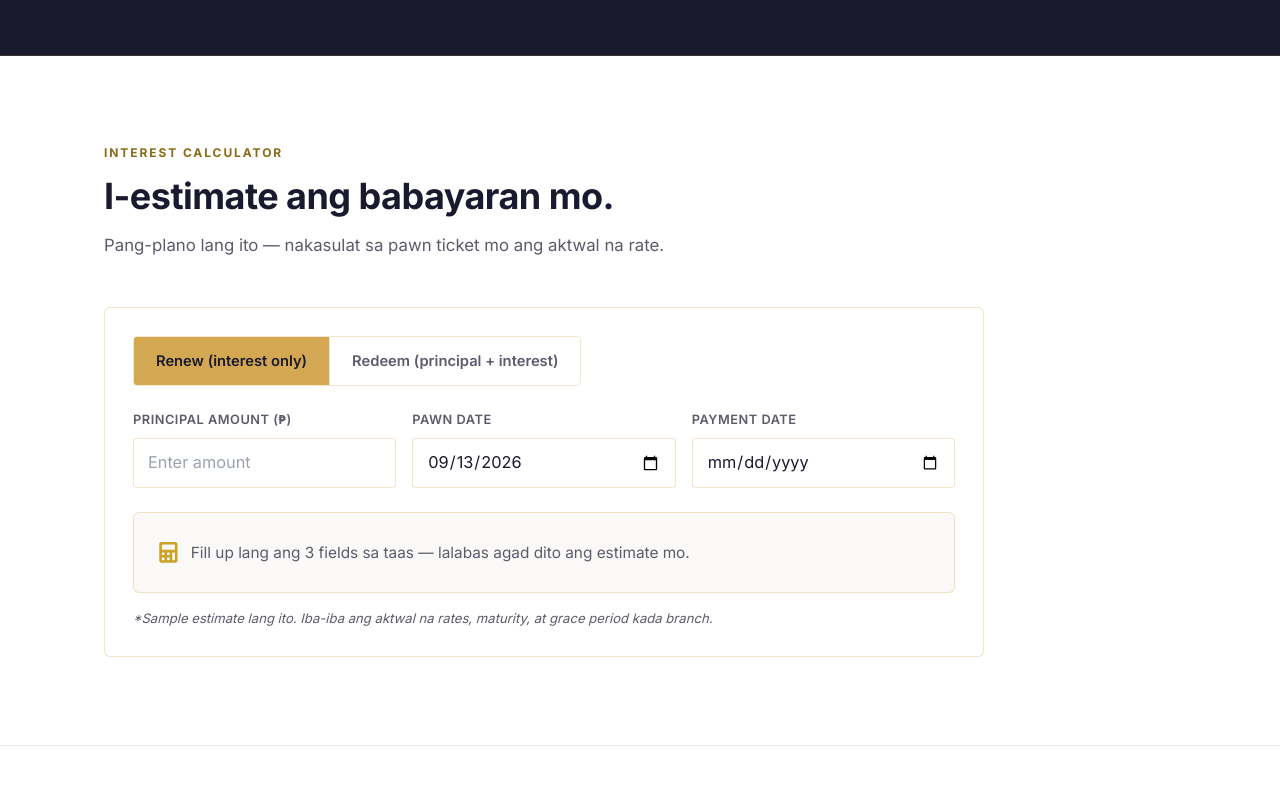
Test case: day 11 flips the tier: 1.5%, ₱75.00
(page scrolled)
In the number field labelled "Principal amount (₱)": (265, 463) [133,438,396,488], type "5000"
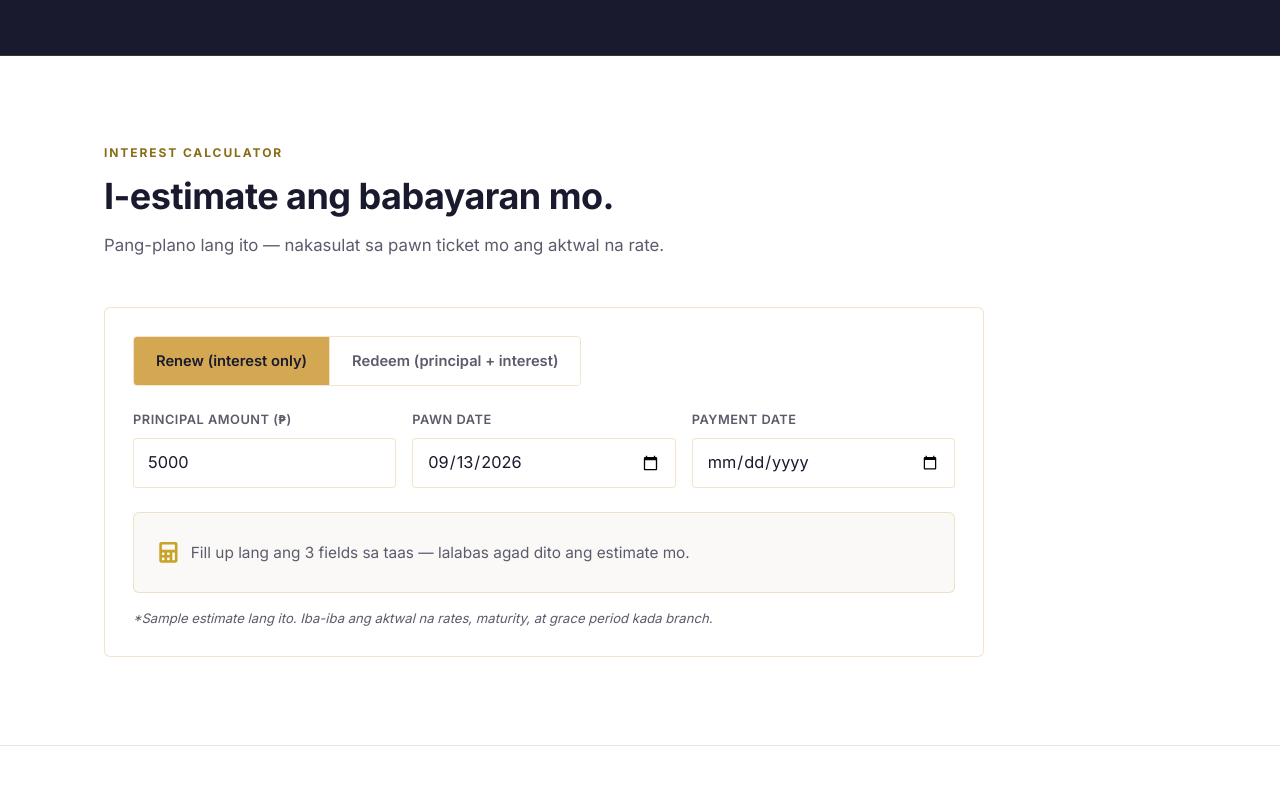
In the date field labelled "Pawn date": (544, 463) [412,438,676,488], type "2026-01-01"
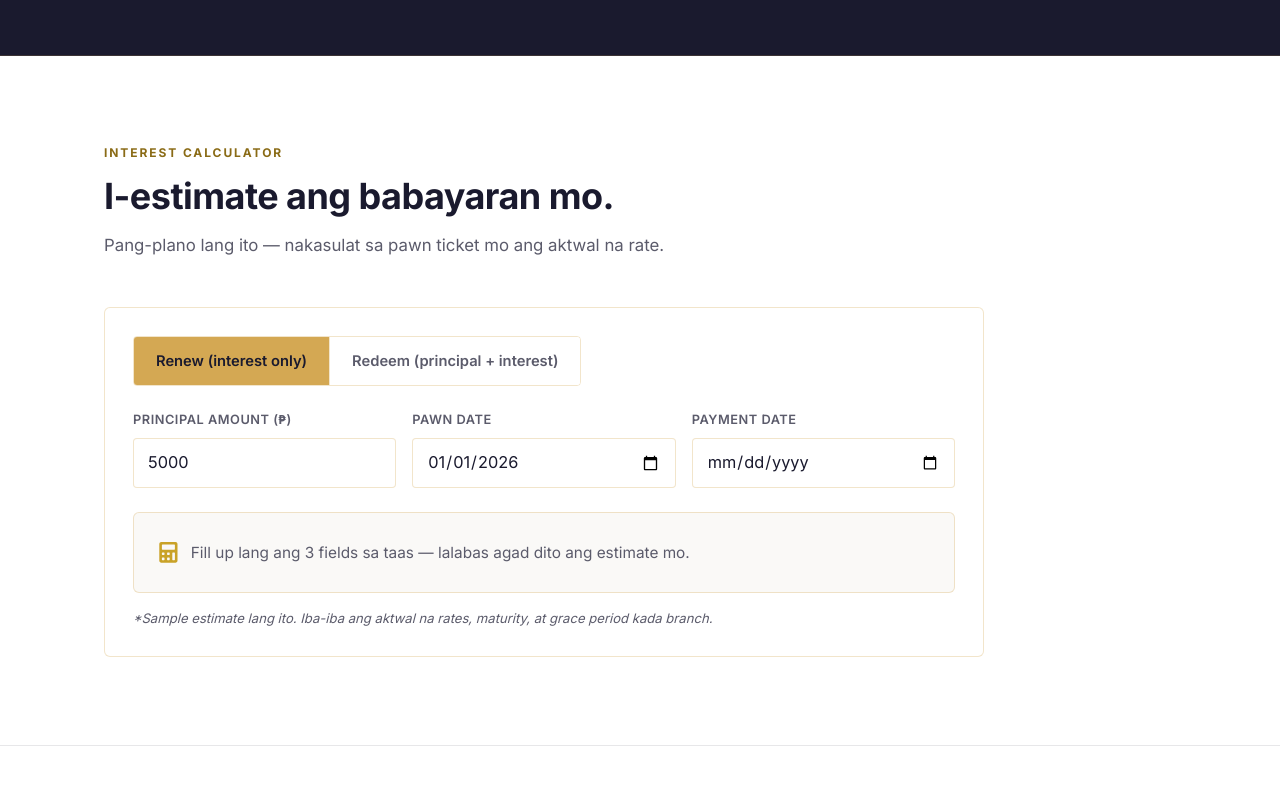
In the date field labelled "Payment date": (823, 463) [692,438,955,488], type "2026-01-12"
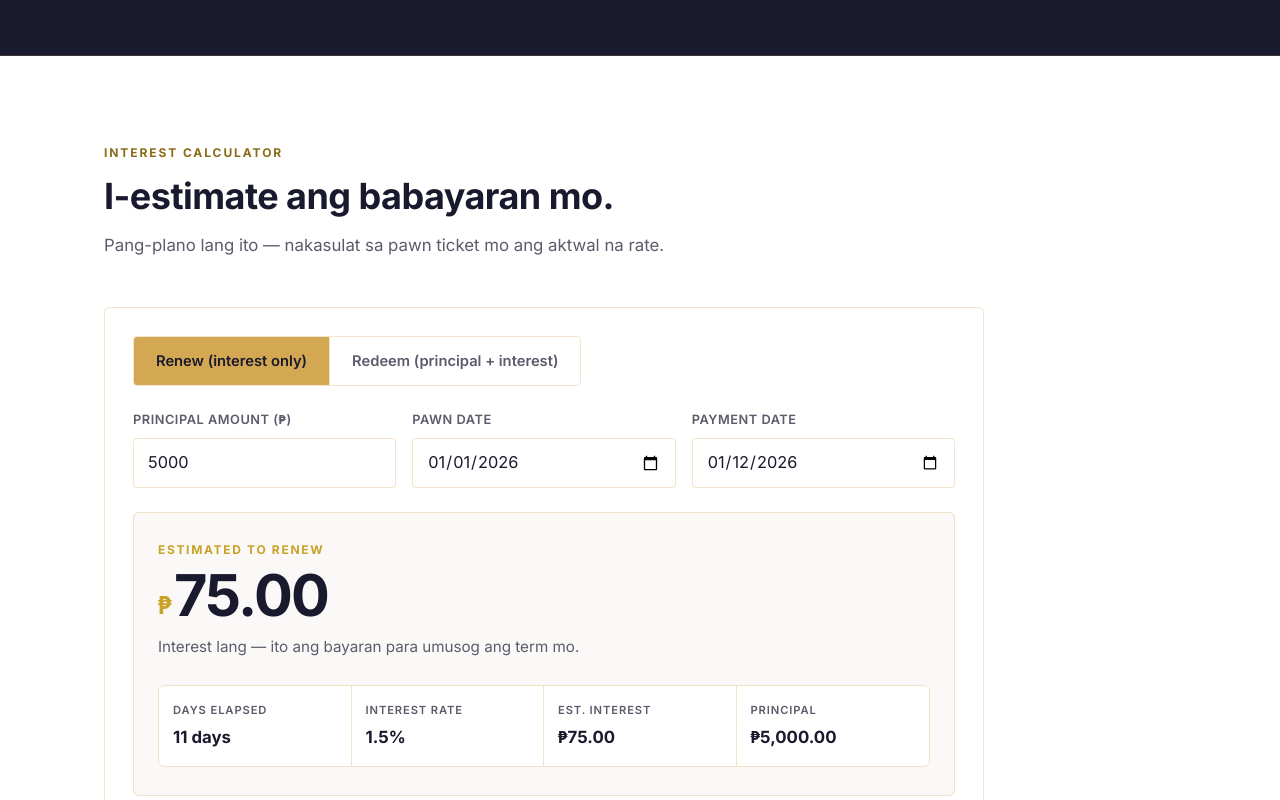
Now the text "1.5%" is shown, box [366,727,406,747]
Now the text "75.00" is shown, box [174,560,328,630]
